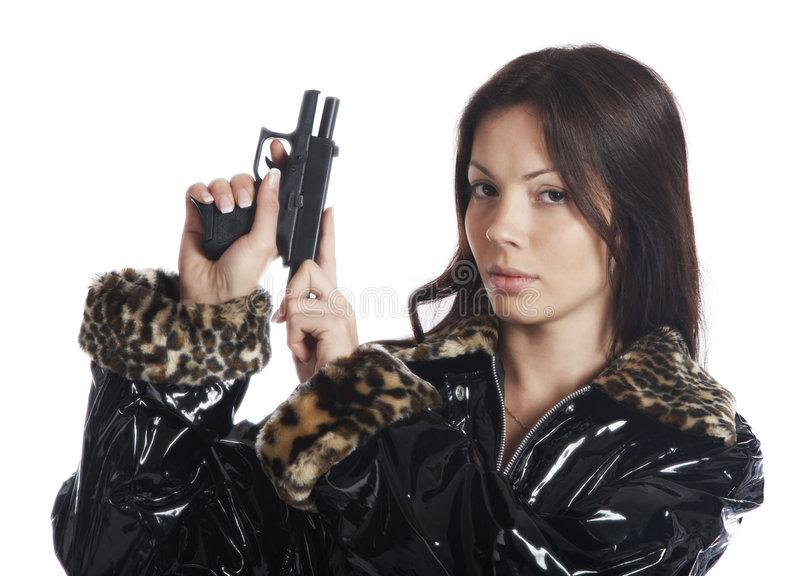criminal: (48, 40, 766, 576)
weapon: (192, 85, 344, 290)
